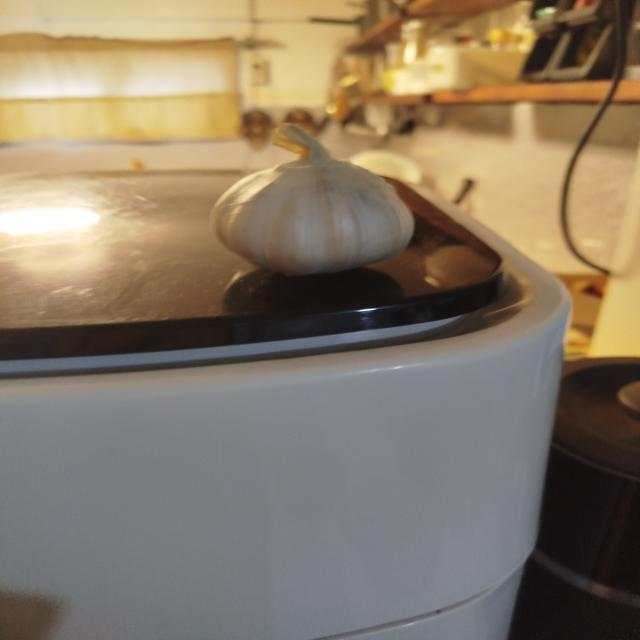garlic: (209, 122, 416, 277)
